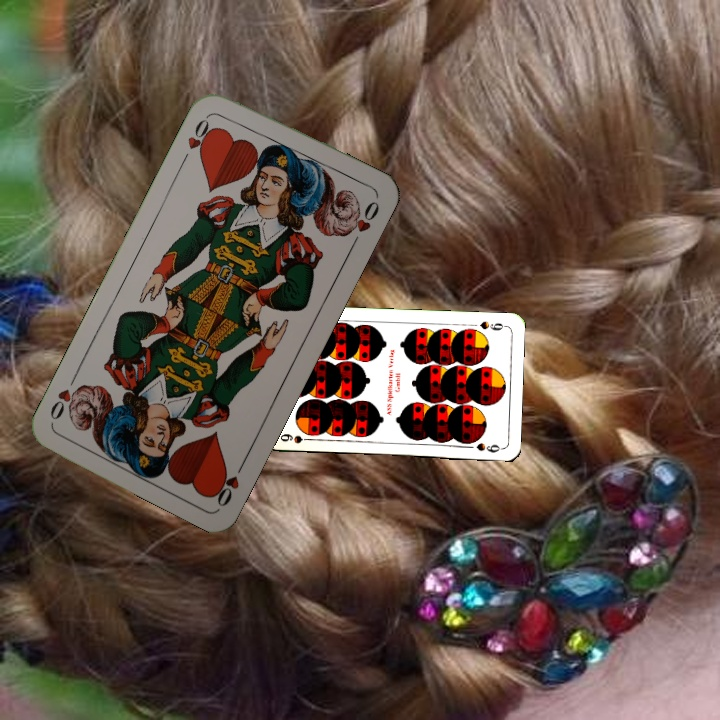HO: (178, 110, 218, 165), (209, 455, 249, 510)
S9: (276, 430, 316, 446), (476, 317, 509, 333)
